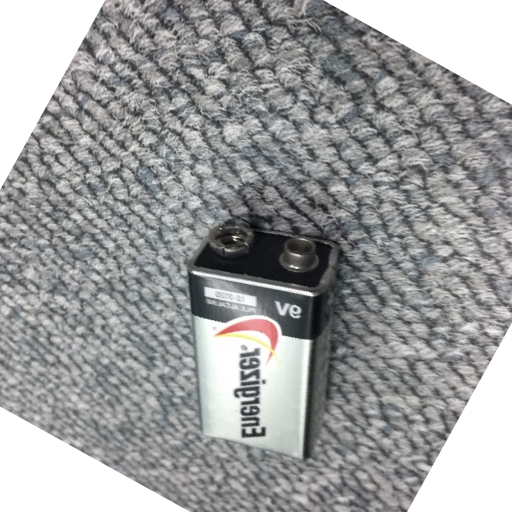Battery_3: (172, 203, 351, 479)
